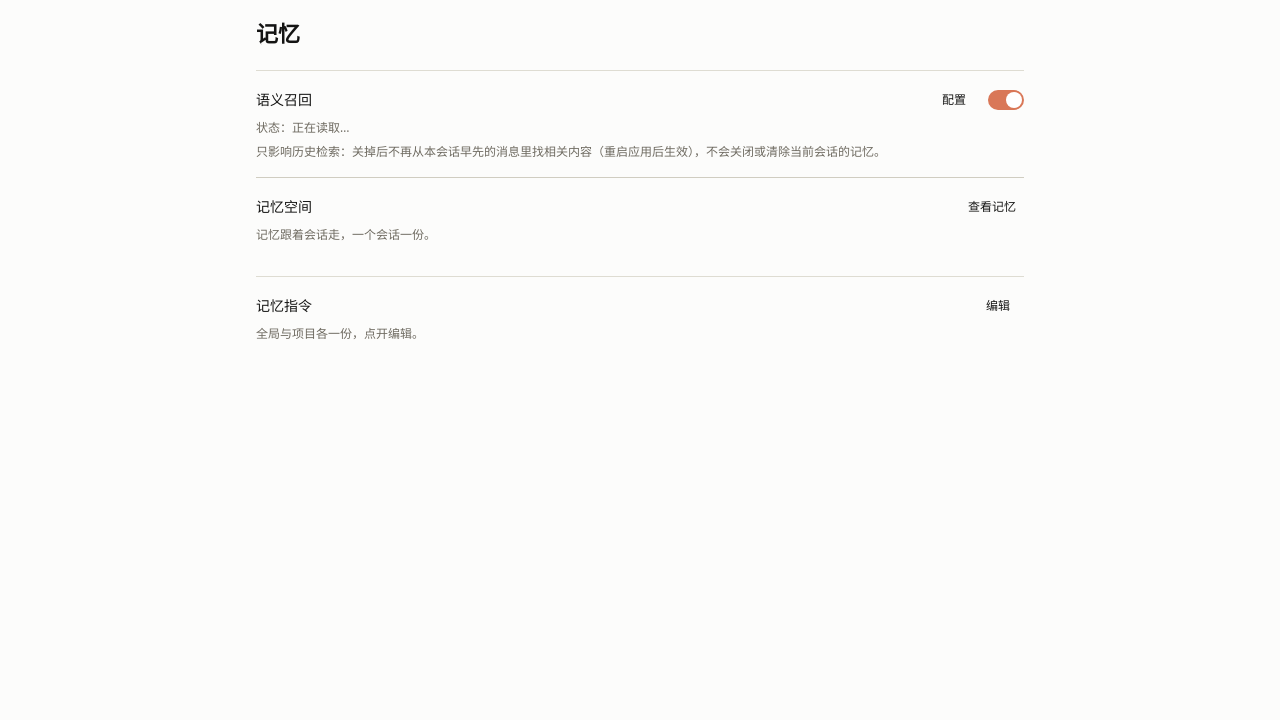
Test case: 记忆空间（「记忆」栏的入口弹窗） › 没有活动会话（草稿）：弹窗给"当前没有会话"空态，一次记忆请求都不发，也不编会话名
Click the button with test id "memory-space-open".
click(992, 207)  # box [960,194,1024,220]
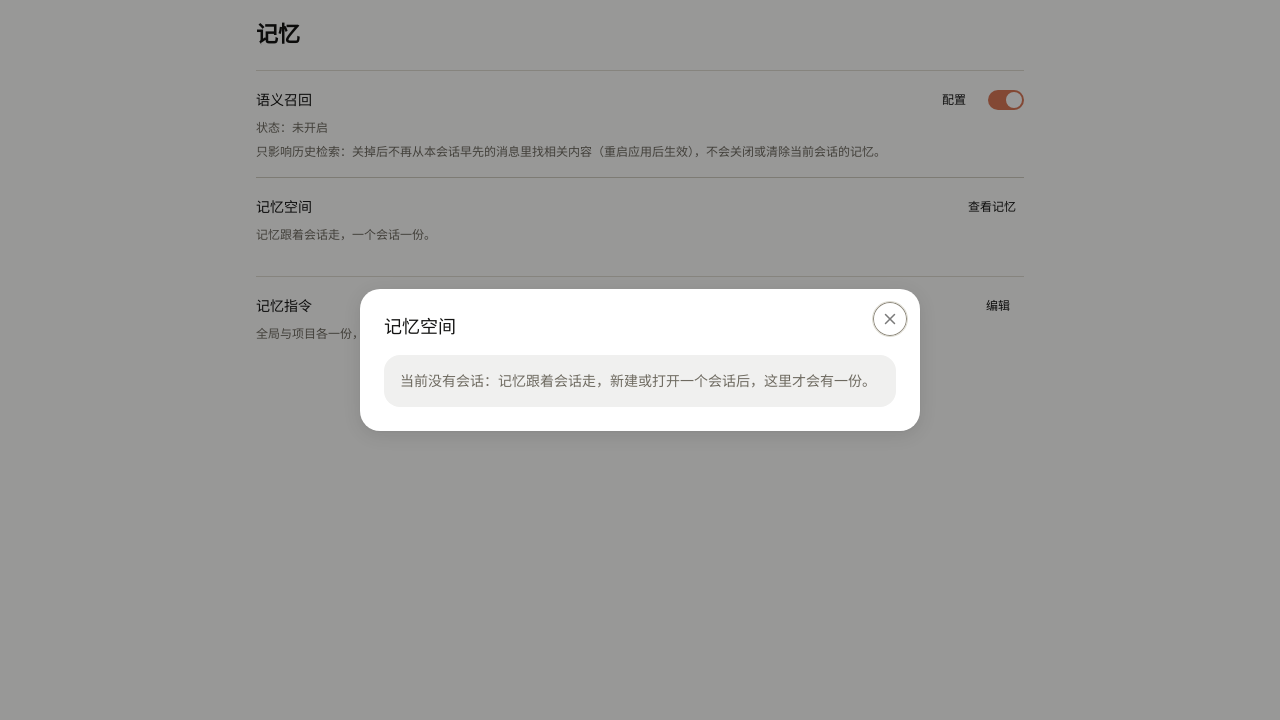
Result: the text with test id "memory-no-session" shows "当前没有会话" at [400,371,876,390]
